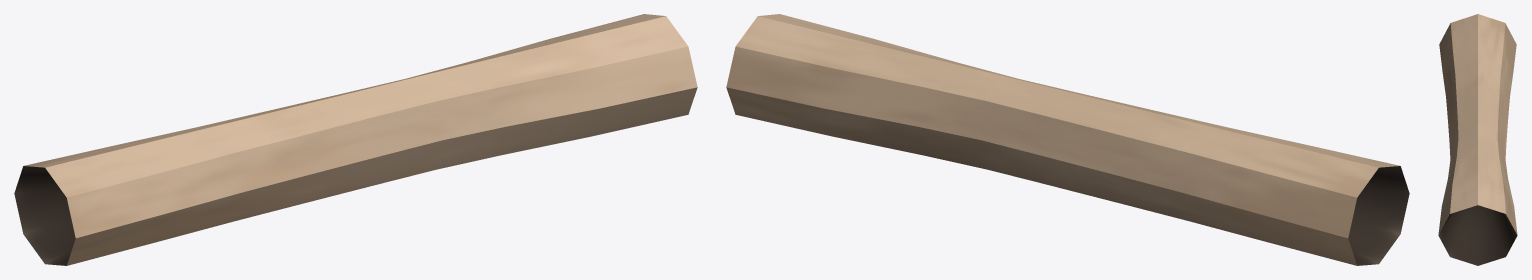
Rendered from SM_parchment1.fbx.
3 renders of one model, left to right at view 1: azimuth 30°, elevation 25°; view 2: azimuth 150°, elevation 25°; view 3: azimuth 270°, elevation 25°, orthographic. The views are drawn at different scales.
Parts seen in each view (by area): view 1: SM_parchment1; view 2: SM_parchment1; view 3: SM_parchment1.
Boxes of the visible parts, <box> form: SM_parchment1: <box>14,14,697,265</box>; SM_parchment1: <box>726,14,1409,265</box>; SM_parchment1: <box>1438,14,1517,265</box>.
Bounding box in the file's own units: 1.18 × 0.1758 × 0.2072.
